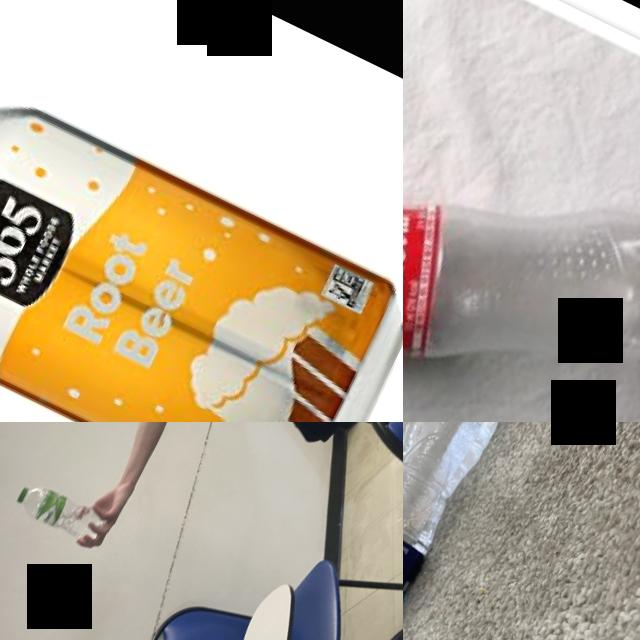bottle: (403, 25, 640, 422), (403, 422, 516, 640), (10, 474, 109, 548)
can: (0, 69, 403, 422)
